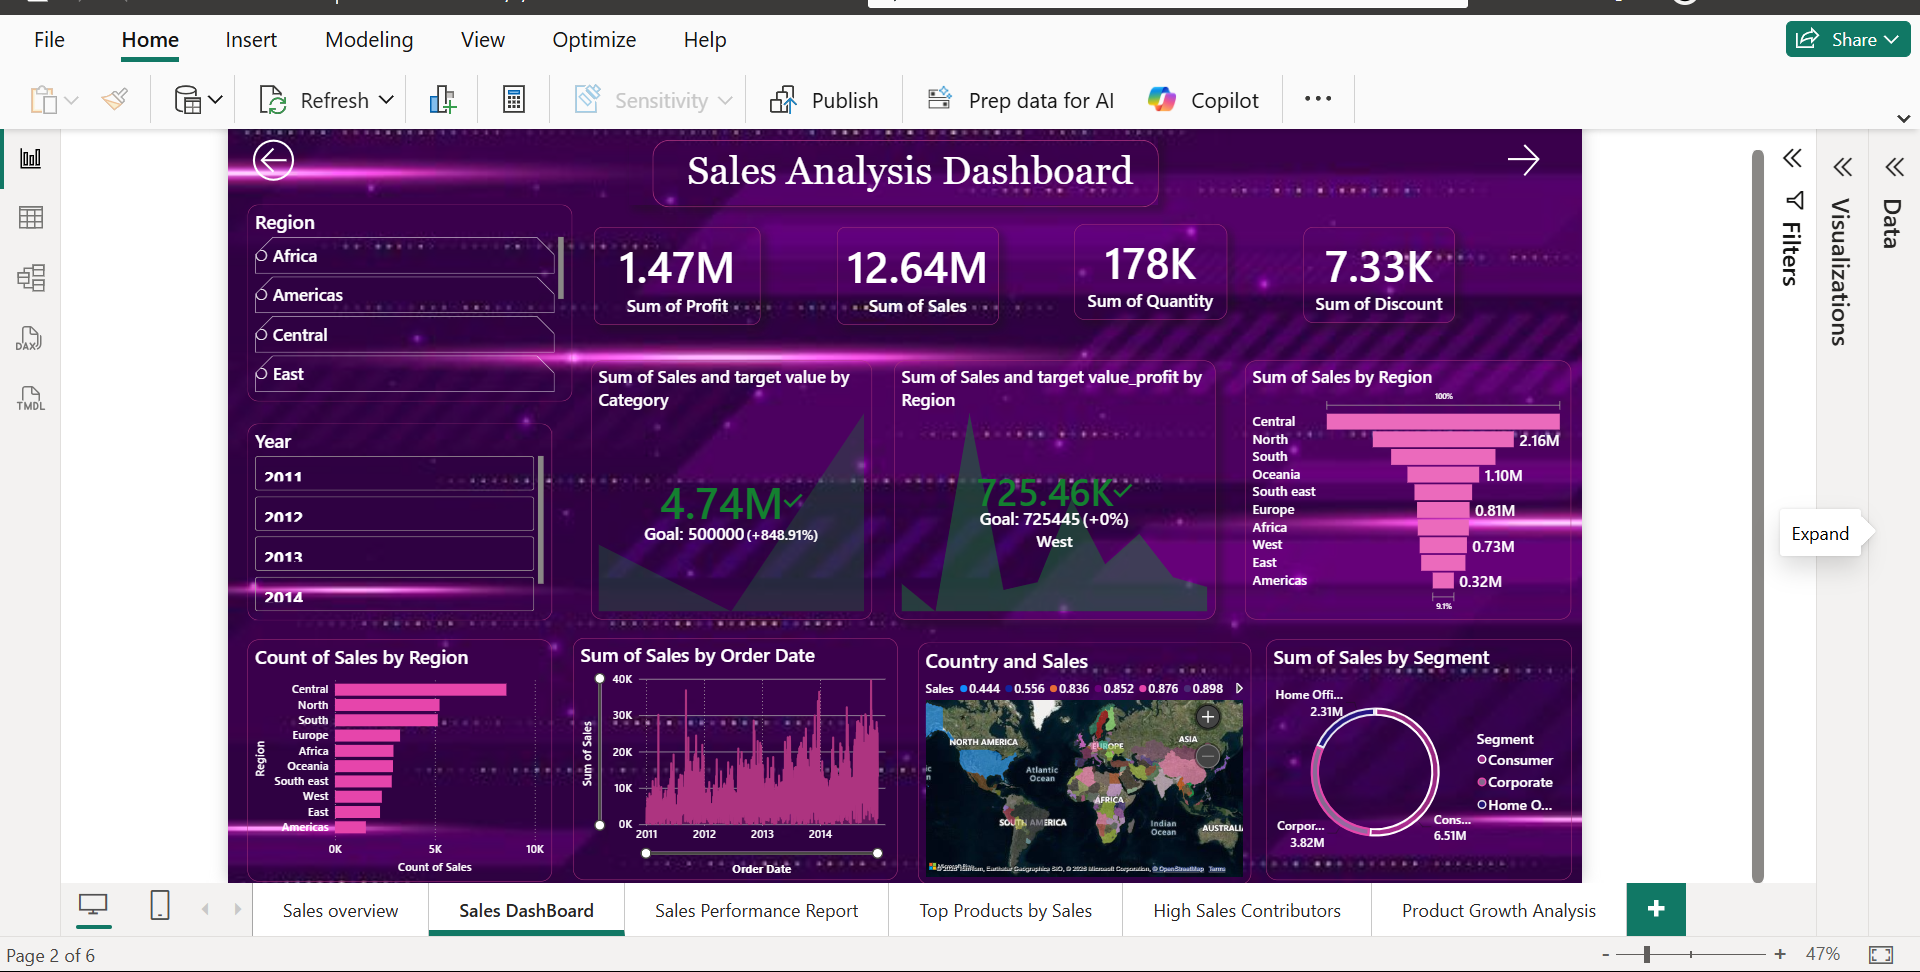

The page's visual inventory and layout, read from the dashboard file:
{"tool":"powerbi","page":{"name":"Sales DashBoard","canvas":[1920,1080],"ordinal":1},"visuals":[{"type":"card","fields":{"Values":["Sum(Cleaned dataset.Profit)"]},"box":[520.1,147.9,236.2,138.4],"z":0},{"type":"card","fields":{"Values":["Sum(Cleaned dataset.Quantity)"]},"box":[1200.1,145.5,217.1,136],"z":1000},{"type":"card","fields":{"Values":["Sum(Cleaned dataset.Discount)"]},"box":[1524.6,147.9,214.7,136],"z":2000},{"type":"donutChart","fields":{"Category":["Cleaned dataset.Segment"],"Y":["Sum(Cleaned dataset.Sales)"]},"box":[1472.1,734.9,434.2,341.2],"z":3000},{"type":"card","fields":{"Values":["Sum(Cleaned dataset.Sales)"]},"box":[863.7,147.9,229,138.4],"z":4000},{"type":"filledMap","fields":{"Category":["Cleaned dataset.Country"],"Series":["Cleaned dataset.Sales"]},"box":[978.2,737.2,472.4,343.6],"z":5000},{"type":"listSlicer","fields":{"Values":["Cleaned dataset.Region"]},"box":[28.6,116.9,460.5,279.2],"z":6000},{"type":"lineChart","fields":{"Category":["Cleaned dataset.Order Date"],"Y":["Sum(Cleaned dataset.Sales)"]},"box":[489.1,732.5,460.5,343.6],"z":7000},{"type":"clusteredBarChart","fields":{"Category":["Cleaned dataset.Region"],"Y":["Count(Cleaned dataset.Sales)"]},"box":[28.6,734.9,431.9,343.6],"z":8000},{"type":"funnel","fields":{"Y":["Sum(Cleaned dataset.Sales)"],"Category":["Cleaned dataset.Region Hierarchy.Region","Cleaned dataset.Region Hierarchy.Country","Cleaned dataset.Region Hierarchy.City"]},"box":[1443.5,338.8,462.9,367.4],"z":9000},{"type":"textbox","box":[567.8,19.1,751.6,97.8],"z":10000},{"type":"kpi","fields":{"Indicator":["Sum(Cleaned dataset.Sales)"],"TrendLine":["Cleaned dataset.Region"],"Goal":["Cleaned dataset.target value_profit"]},"box":[944.8,338.8,455.7,367.4],"z":11000},{"type":"advancedSlicerVisual","fields":{"Values":["Cleaned dataset.Year"]},"box":[28.6,427.1,431.9,279.2],"z":12000},{"type":"kpi","fields":{"Indicator":["Sum(Cleaned dataset.Sales)"],"TrendLine":["Cleaned dataset.Category"],"Goal":["KPIs 2.target value"]},"box":[515.4,338.8,398.4,367.4],"z":13000},{"type":"actionButton","box":[28.3,0,73.7,107.7],"z":14000},{"type":"actionButton","box":[1808.5,26.2,76.3,57.3],"z":15000},{"type":"shape","box":[601.3,26.2,718.2,95.4],"z":16000}]}

Visuals, with their boxes on the page's 1920x1080 design canvas (x1, y1, x2, y2). These are canvas units, not pixel positions in the 1920x972 screenshot, which may show the page scaled, cropped or inside an application window:
card - Sum(Cleaned dataset.Profit): <box>520,148,756,286</box>
card - Sum(Cleaned dataset.Quantity): <box>1200,146,1417,282</box>
card - Sum(Cleaned dataset.Discount): <box>1525,148,1739,284</box>
donutChart - Cleaned dataset.Segment x Sum(Cleaned dataset.Sales): <box>1472,735,1906,1076</box>
card - Sum(Cleaned dataset.Sales): <box>864,148,1093,286</box>
filledMap - Cleaned dataset.Country x Cleaned dataset.Sales: <box>978,737,1451,1081</box>
listSlicer - Cleaned dataset.Region: <box>29,117,489,396</box>
lineChart - Cleaned dataset.Order Date x Sum(Cleaned dataset.Sales): <box>489,732,950,1076</box>
clusteredBarChart - Cleaned dataset.Region x Count(Cleaned dataset.Sales): <box>29,735,460,1078</box>
funnel - Sum(Cleaned dataset.Sales) x Cleaned dataset.Region Hierarchy.Region: <box>1444,339,1906,706</box>
textbox: <box>568,19,1319,117</box>
kpi - Sum(Cleaned dataset.Sales) x Cleaned dataset.Region: <box>945,339,1400,706</box>
advancedSlicerVisual - Cleaned dataset.Year: <box>29,427,460,706</box>
kpi - Sum(Cleaned dataset.Sales) x Cleaned dataset.Category: <box>515,339,914,706</box>
actionButton: <box>28,0,102,108</box>
actionButton: <box>1808,26,1885,84</box>
shape: <box>601,26,1320,122</box>
